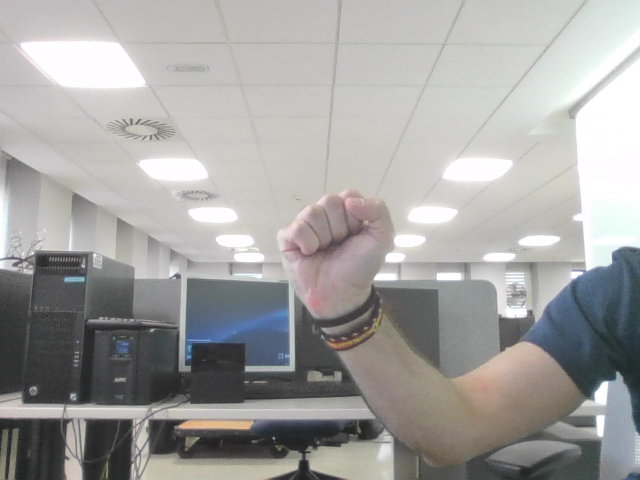Puño: (296, 197, 378, 272)
